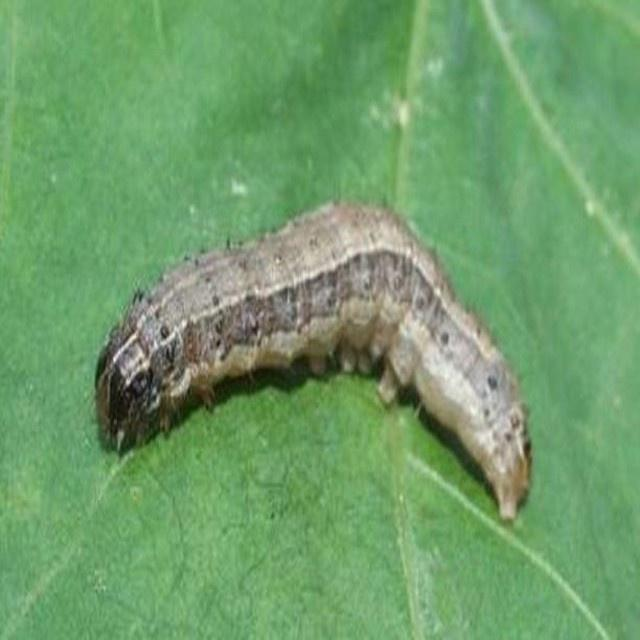gusano_cogollero: (98, 198, 530, 526)
